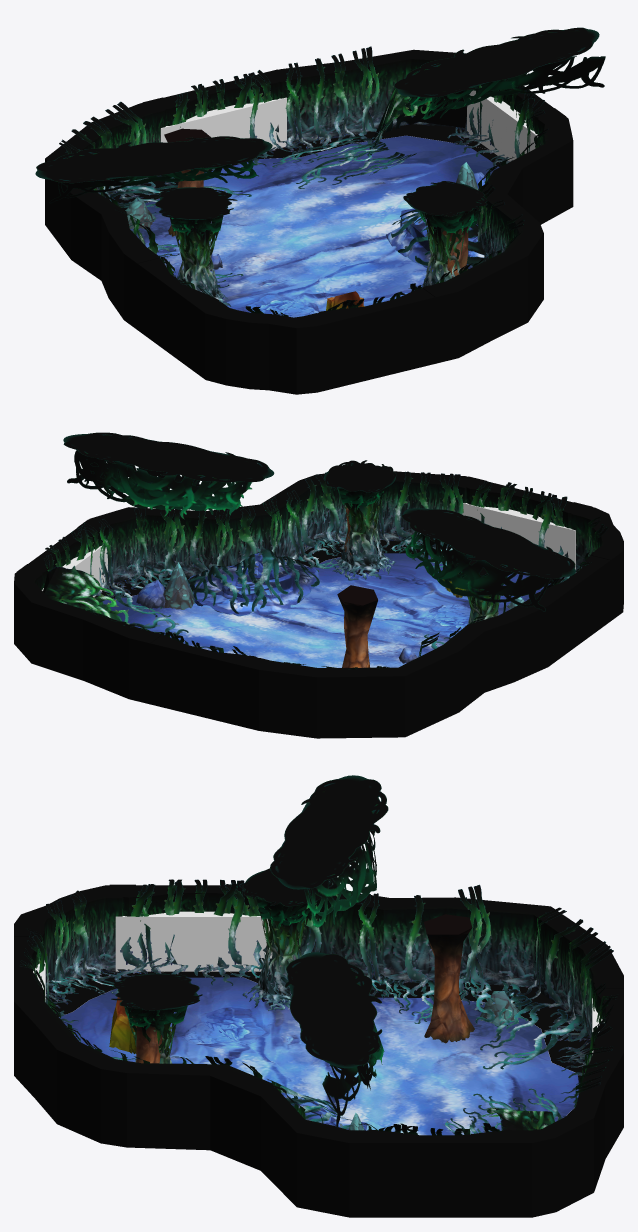
Rendered from Dungeon_012_Room_003.fbx.
The picture shows the model from 3 angles, top to bottom: view 1: azimuth 30°, elevation 25°; view 2: azimuth 150°, elevation 25°; view 3: azimuth 270°, elevation 25°; orthographic projection. The views are drawn at different scales.
Visible parts, largest first — view 1: Dun_021_Room_003_wall, Dun_021_Room_003_ground, Dungeon_021_Object_025, un_021_Door_002 (×4), Dungeon_021_Object_021, DoorWay_NavMask (1) (×2), Dungeon_021_Object_024, un_021_Door_002_Object1 (×2), Dungeon_021_Object_010, Dungeon_021_Object_012, Dun_011_Room_003_shadow, Dungeon_021_Object_013 (+6 smaller); view 2: Dun_021_Room_003_wall, Dungeon_021_Object_025, Dun_021_Room_003_ground, un_021_Door_002 (×4), Dungeon_021_Object_021, Dungeon_021_Object_015, DoorWay_NavMask (1) (×2), Dungeon_021_Object_016, un_021_Door_002_Object1 (×2), Dungeon_021_Object_011, Dungeon_021_Object_024, Dungeon_021_Object_010 (+6 smaller); view 3: Dun_021_Room_003_wall, Dun_021_Room_003_ground, Dungeon_021_Object_025, un_021_Door_002 (×4), Dungeon_021_Object_021, DoorWay_NavMask (1), un_021_Door_002_Object1 (×3), Dungeon_011_Object_010 (×2), Dungeon_021_Object_022, Dun_011_Room_003_shadow, Dungeon_021_Object_010, Dungeon_021_Object_013 (+7 smaller).
Part boxes in pixels (x1=…): Dun_021_Room_003_wall: x1=45, y1=49, x2=573, y2=394; Dun_021_Room_003_ground: x1=130, y1=135, x2=499, y2=317; Dungeon_021_Object_025: x1=35, y1=27, x2=605, y2=203; un_021_Door_002 (×4): x1=126, y1=69, x2=566, y2=386; Dungeon_021_Object_021: x1=59, y1=46, x2=548, y2=316; DoorWay_NavMask (1) (×2): x1=160, y1=90, x2=537, y2=161; Dungeon_021_Object_024: x1=272, y1=88, x2=468, y2=188; un_021_Door_002_Object1 (×2): x1=170, y1=70, x2=544, y2=184; Dungeon_021_Object_010: x1=403, y1=181, x2=487, y2=234; Dungeon_021_Object_012: x1=155, y1=187, x2=237, y2=237; Dun_011_Room_003_shadow: x1=105, y1=124, x2=488, y2=210; Dungeon_021_Object_013: x1=173, y1=221, x2=231, y2=306; Dun_021_Room_003_wall: x1=14, y1=471, x2=623, y2=738; Dungeon_021_Object_025: x1=63, y1=432, x2=575, y2=611; Dun_021_Room_003_ground: x1=102, y1=553, x2=550, y2=667; un_021_Door_002 (×4): x1=17, y1=476, x2=620, y2=725; Dungeon_021_Object_021: x1=71, y1=471, x2=607, y2=669; Dungeon_021_Object_015: x1=188, y1=552, x2=319, y2=616; DoorWay_NavMask (1) (×2): x1=42, y1=503, x2=575, y2=597; Dungeon_021_Object_016: x1=187, y1=548, x2=319, y2=613; un_021_Door_002_Object1 (×2): x1=43, y1=481, x2=576, y2=595; Dungeon_021_Object_011: x1=332, y1=491, x2=395, y2=580; Dungeon_021_Object_024: x1=43, y1=565, x2=208, y2=648; Dungeon_021_Object_010: x1=324, y1=460, x2=396, y2=510; Dun_021_Room_003_wall: x1=14, y1=885, x2=623, y2=1217; Dun_021_Room_003_ground: x1=59, y1=977, x2=578, y2=1135; Dungeon_021_Object_025: x1=270, y1=775, x2=388, y2=1127; un_021_Door_002 (×4): x1=14, y1=884, x2=623, y2=1217; Dungeon_021_Object_021: x1=39, y1=884, x2=613, y2=1130; DoorWay_NavMask (1): x1=115, y1=911, x2=272, y2=971; un_021_Door_002_Object1 (×3): x1=20, y1=879, x2=617, y2=1107; Dungeon_011_Object_010 (×2): x1=130, y1=914, x2=474, y2=1063; Dungeon_021_Object_022: x1=48, y1=957, x2=583, y2=1069; Dun_011_Room_003_shadow: x1=49, y1=971, x2=590, y2=1115; Dungeon_021_Object_010: x1=111, y1=973, x2=202, y2=1030; Dungeon_021_Object_013: x1=242, y1=902, x2=310, y2=1010.
Size of what is drawn, in the model's own units: 18.45 by 4.55 by 15.
